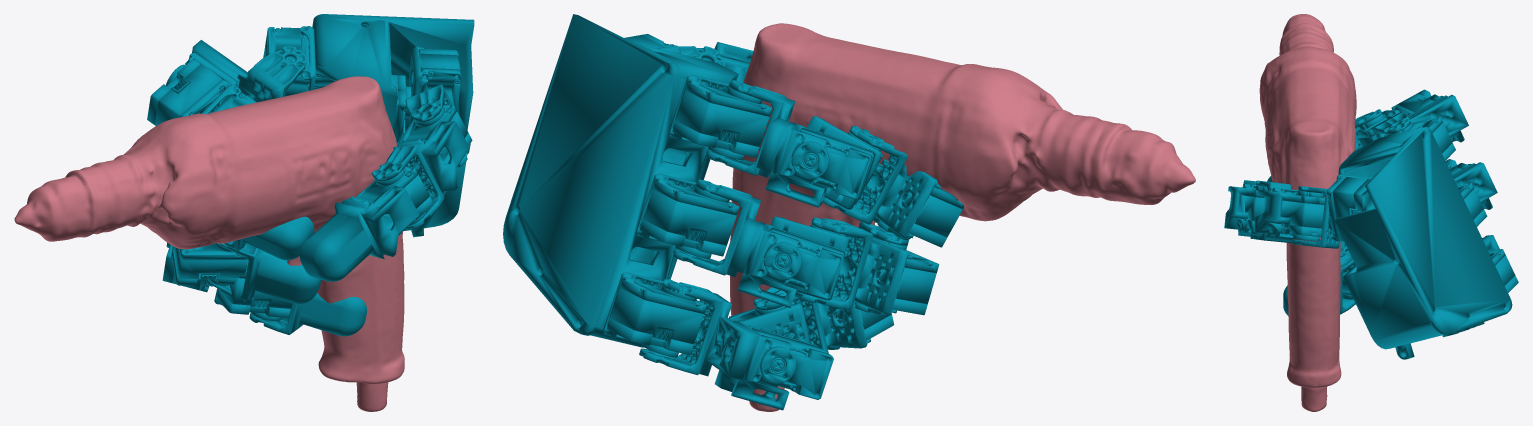
3 renders of one model, left to right at view 1: azimuth 30°, elevation 25°; view 2: azimuth 150°, elevation 25°; view 3: azimuth 270°, elevation 25°, orthographic. The views are drawn at different scales.
Visible parts, largest first — view 1: world; view 2: world; view 3: world.
Part boxes in pixels (x1,y1,x2,y2): world: [14, 14, 474, 411]; world: [503, 14, 1195, 411]; world: [1224, 14, 1518, 411].
Bounding box in the file's own units: 0.2978 × 0.1875 × 0.1742.
